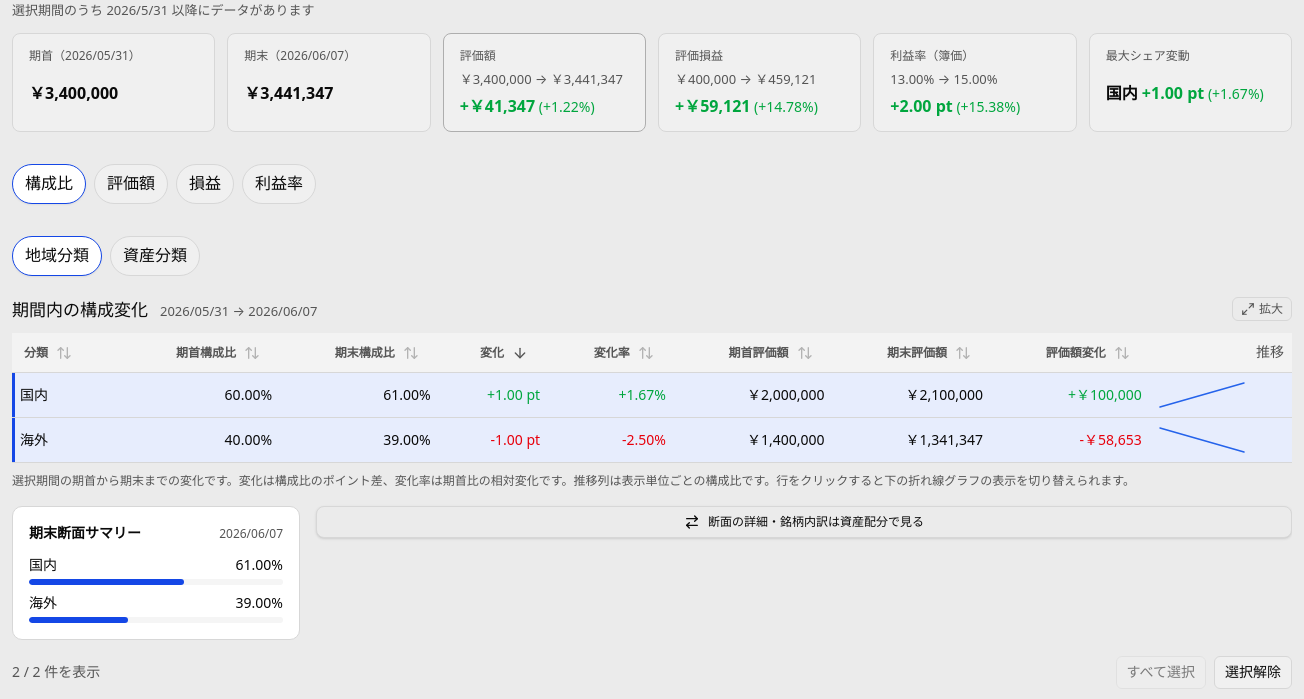
Test case: TrendsDetailPanel › supports bulk select and clear from toolbar
Expected: the element named "構成の選択" is shown, [12,656,1292,689]
What coordinates should you click on to do the following:
click the button "選択解除"
I would click on:
 (1253, 673)
Its box is [1214,656,1292,689].
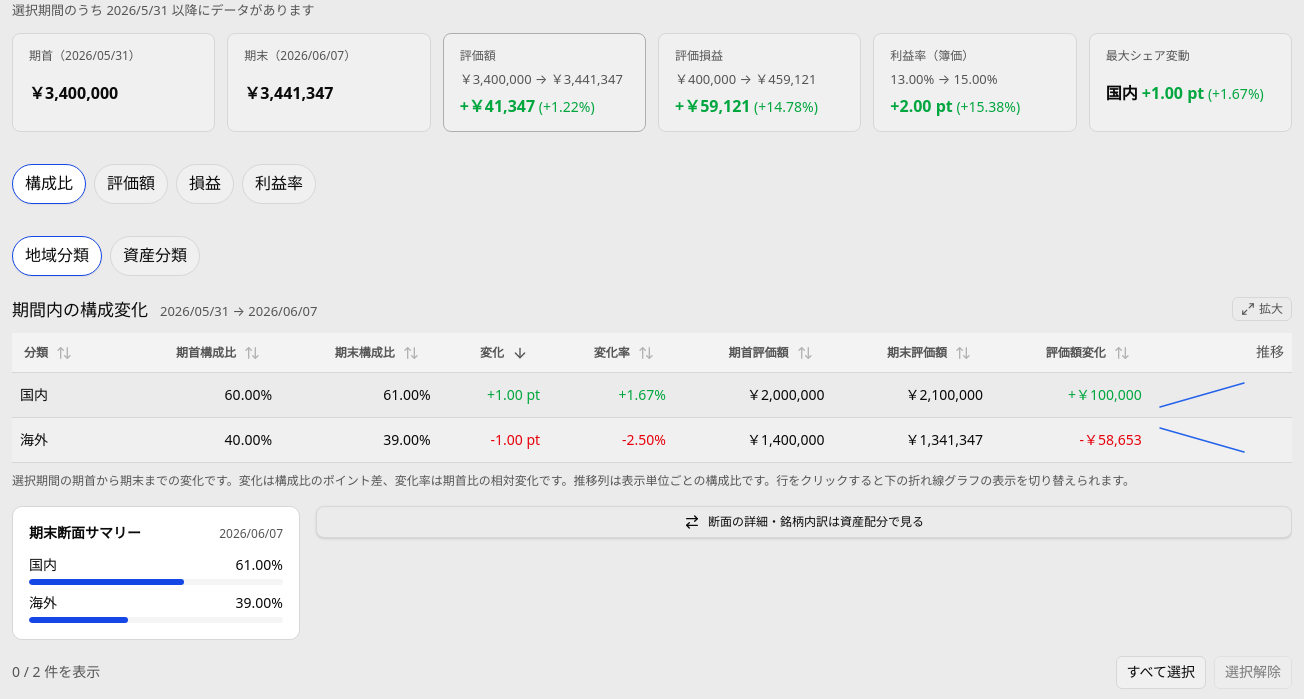
Now the text "0 / 2 件を表示" is shown, box [12,661,100,684]
What coordinates should you click on to do the following:
click the button "すべて選択"
I would click on:
 (1161, 673)
Its box is [1116,656,1206,689].
(page scrolled)
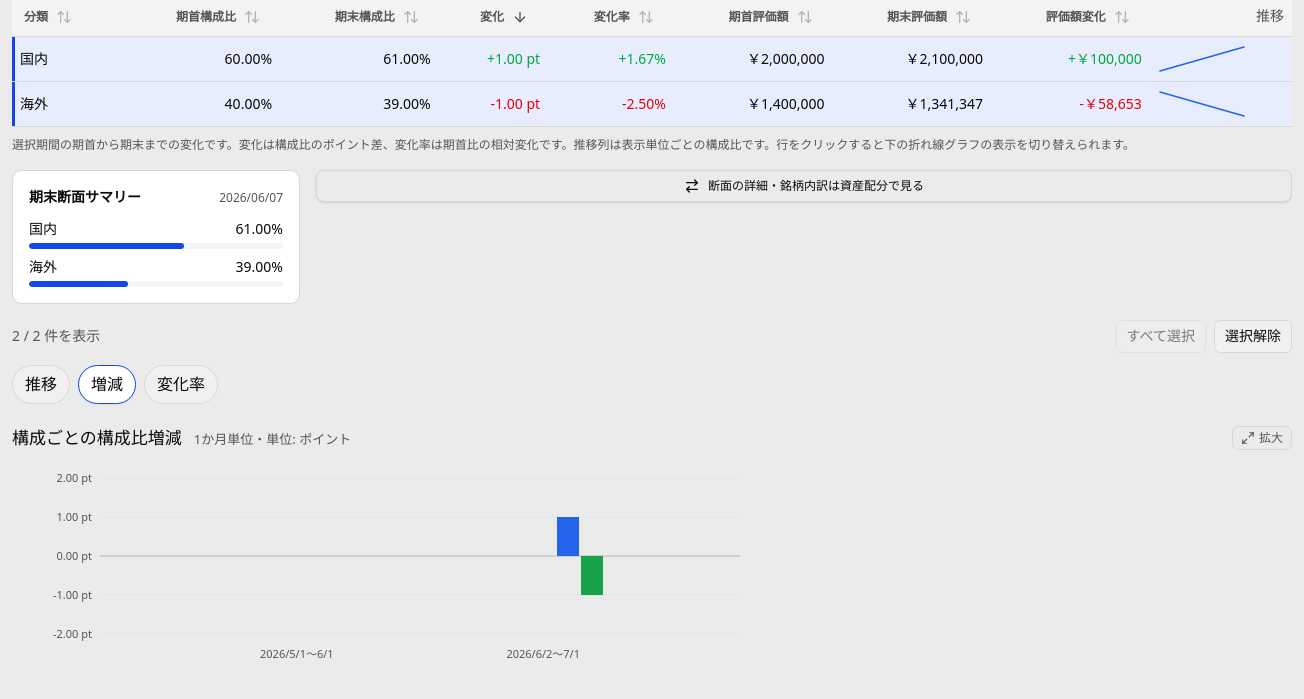
Now the text "2 / 2 件を表示" is shown, box [12,325,100,348]
Now the heading "構成ごとの構成比増減" is shown, box [12,424,182,452]
